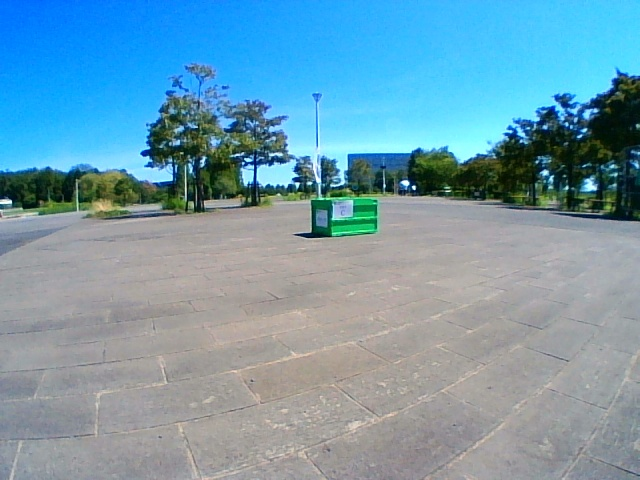green_box: (311, 197, 378, 236)
tag: (333, 201, 352, 218)
